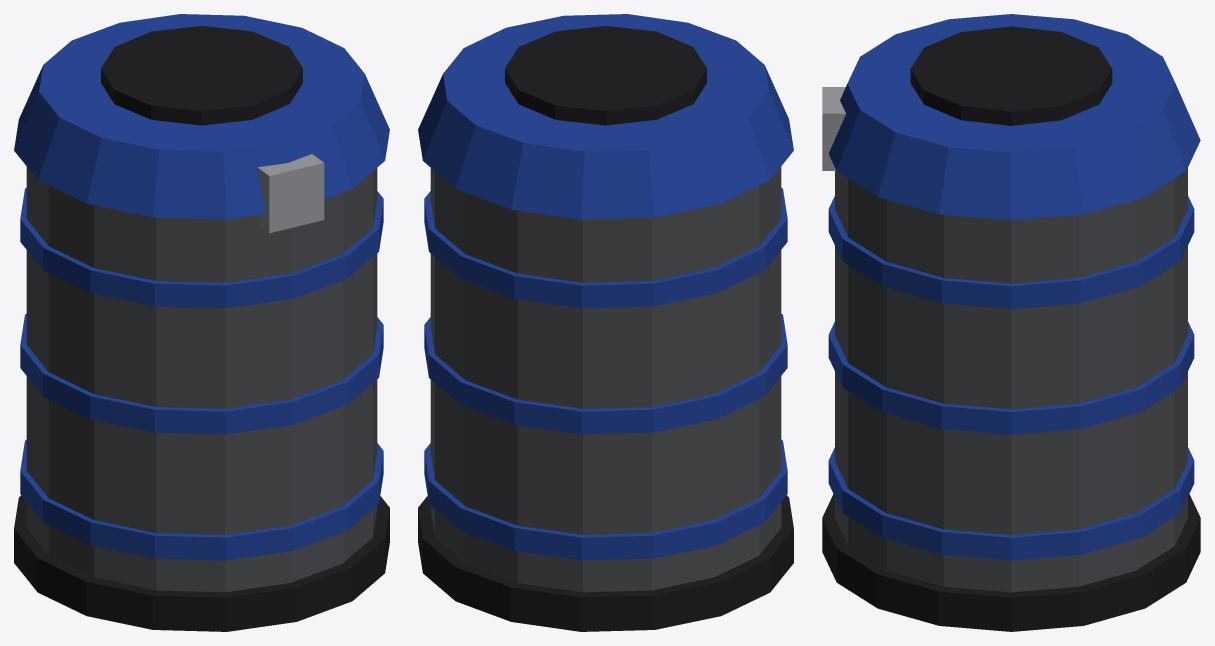
The model's file is PRP_Bin_ML_v001.glb.
The picture shows the model from 3 angles, left to right: view 1: azimuth 30°, elevation 25°; view 2: azimuth 150°, elevation 25°; view 3: azimuth 270°, elevation 25°; orthographic projection.
Visible parts, largest first — view 1: PRP_Bin_ML_v001; view 2: PRP_Bin_ML_v001; view 3: PRP_Bin_ML_v001.
Part boxes in pixels (left/top/right/bottom): PRP_Bin_ML_v001: left=14, top=14, right=389, bottom=631; PRP_Bin_ML_v001: left=418, top=14, right=793, bottom=631; PRP_Bin_ML_v001: left=822, top=14, right=1200, bottom=631.
Size of the model in its own units: 0.6 by 0.845 by 0.6.
